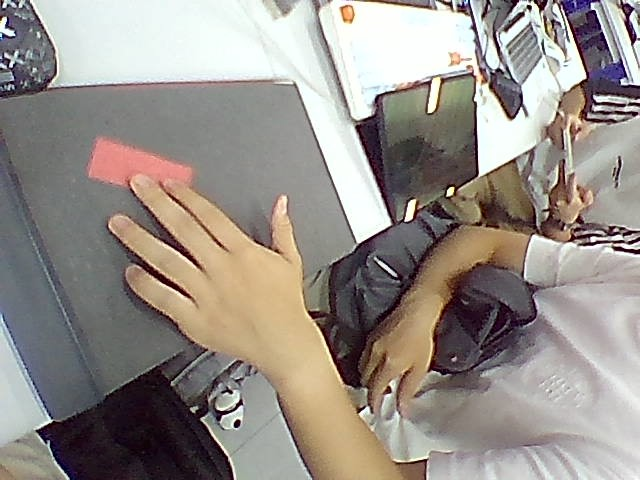card: (87, 137, 192, 186)
